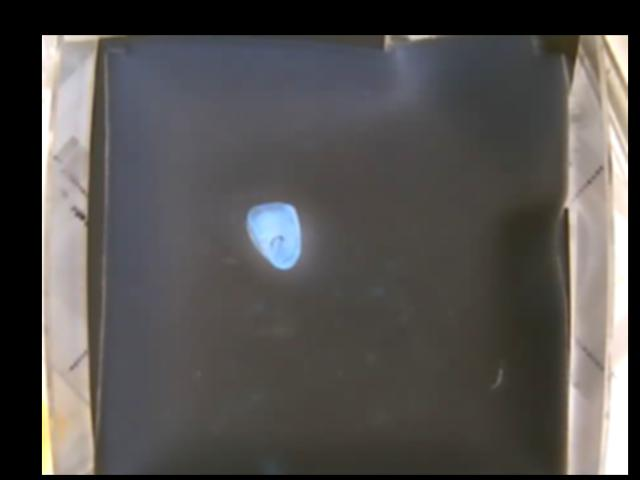Pebble: (246, 200, 303, 269)
